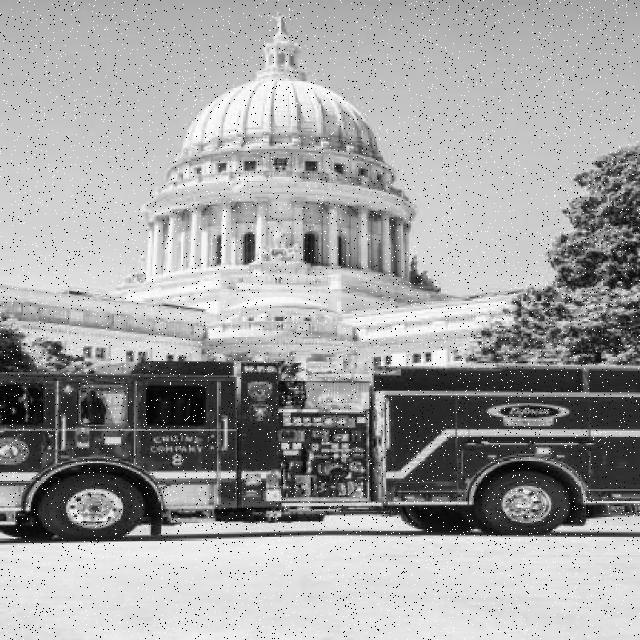Fire Truck: (0, 362, 640, 541)
